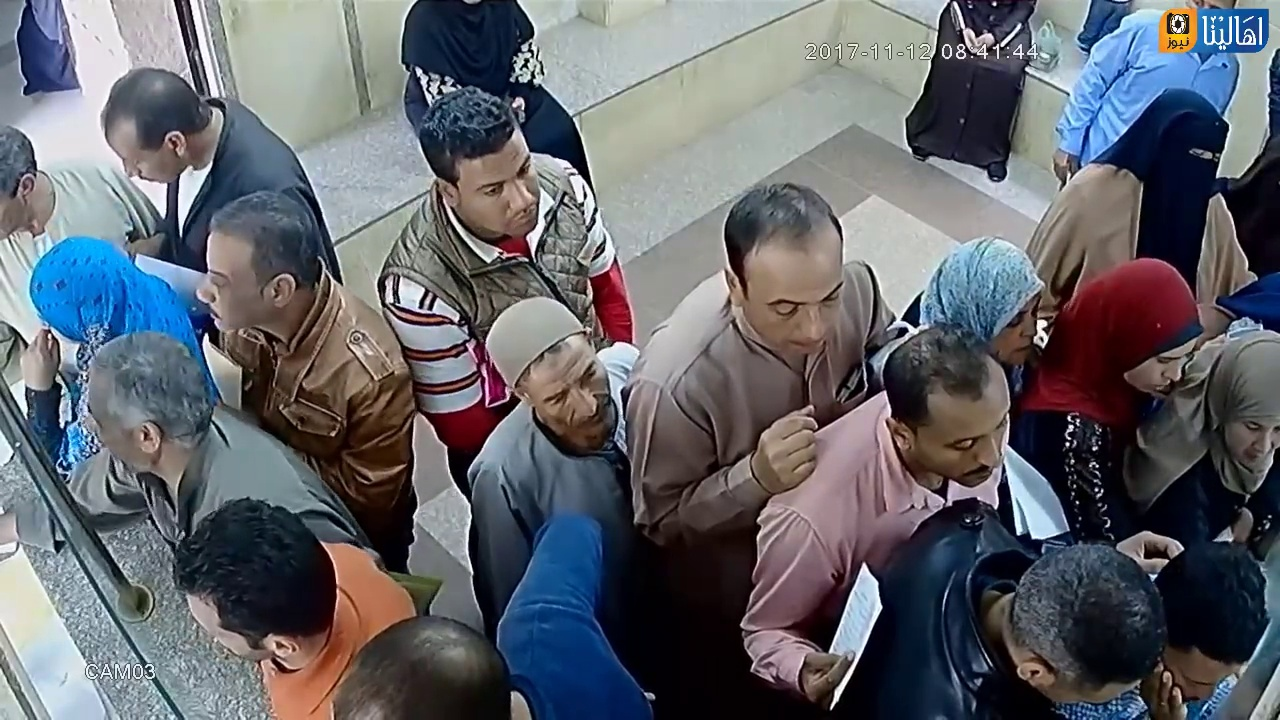face: (515, 358, 618, 454), (746, 264, 842, 364), (459, 155, 534, 241), (199, 236, 253, 343), (943, 404, 1010, 484), (107, 115, 161, 199), (1230, 396, 1280, 473), (991, 299, 1039, 375)
